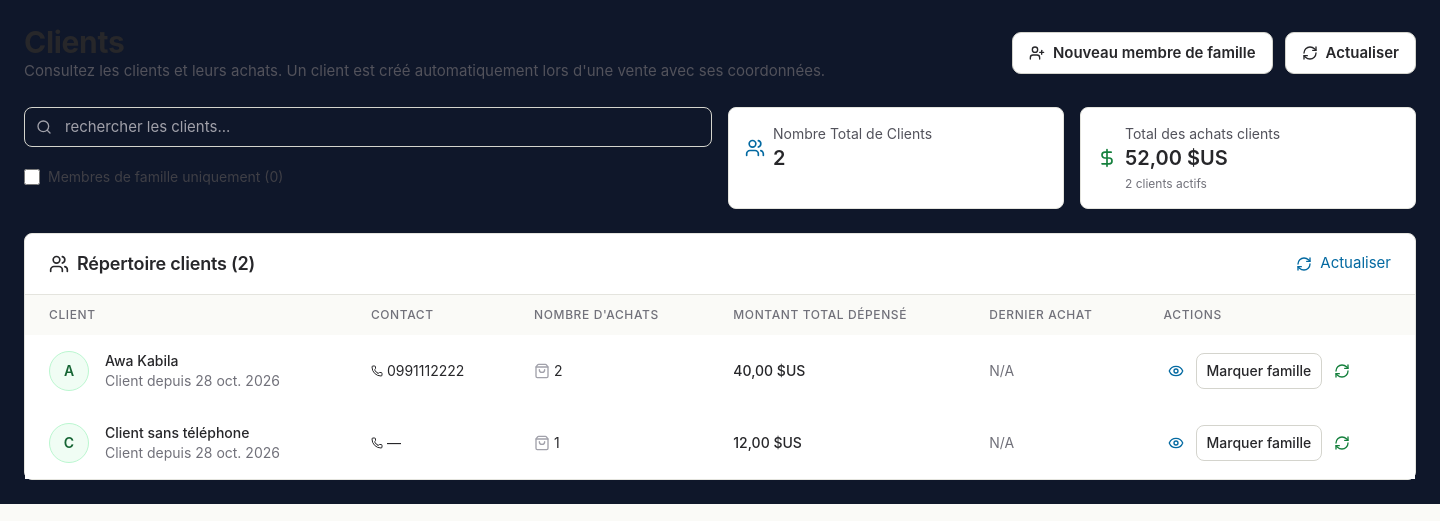
Clients: customers created without a phone number are listed and searchable
Check: the text "Client sans téléphone" is shown, box x1=105 y1=424 x2=249 y2=440
In the field with placeholder "rechercher les clients...": [368, 127] box x1=24 y1=106 x2=712 y2=147, type "099"
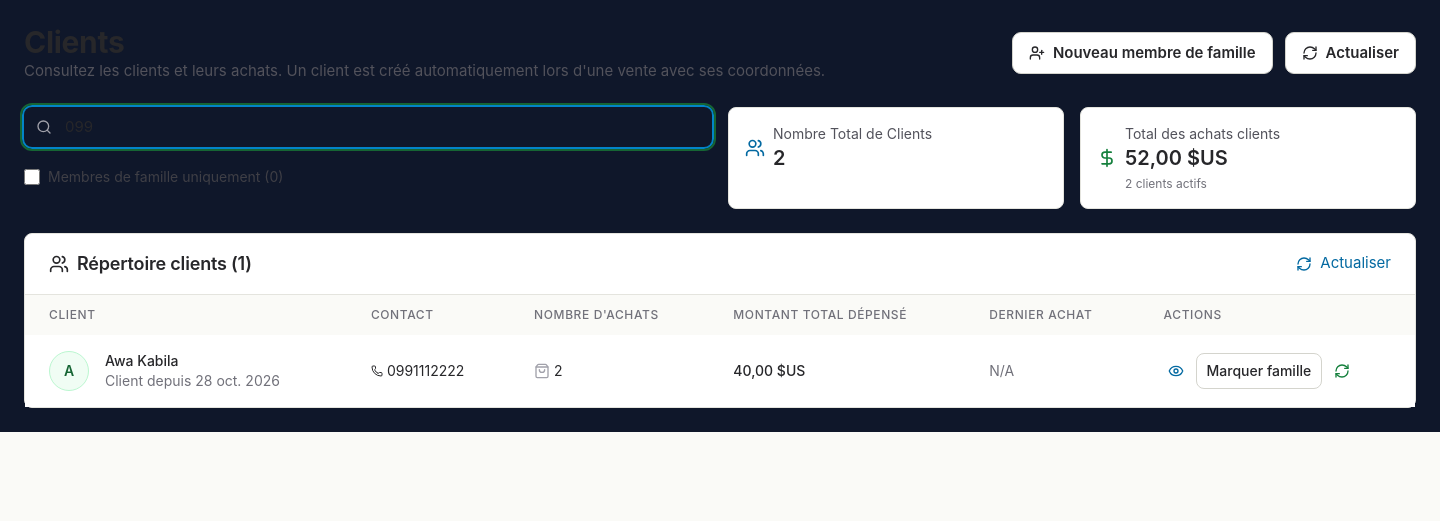
Check: the text "Awa Kabila" is shown, box x1=105 y1=352 x2=178 y2=368
Check: the text "Client sans téléphone" is gone
